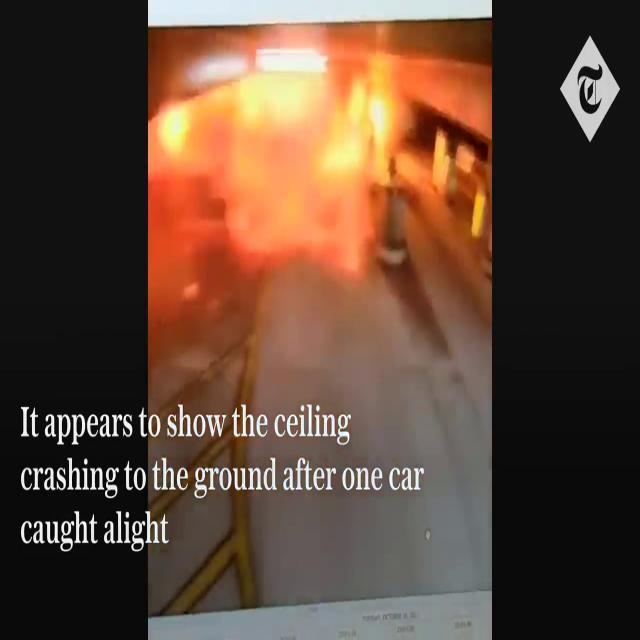Fire: (150, 6, 422, 250)
